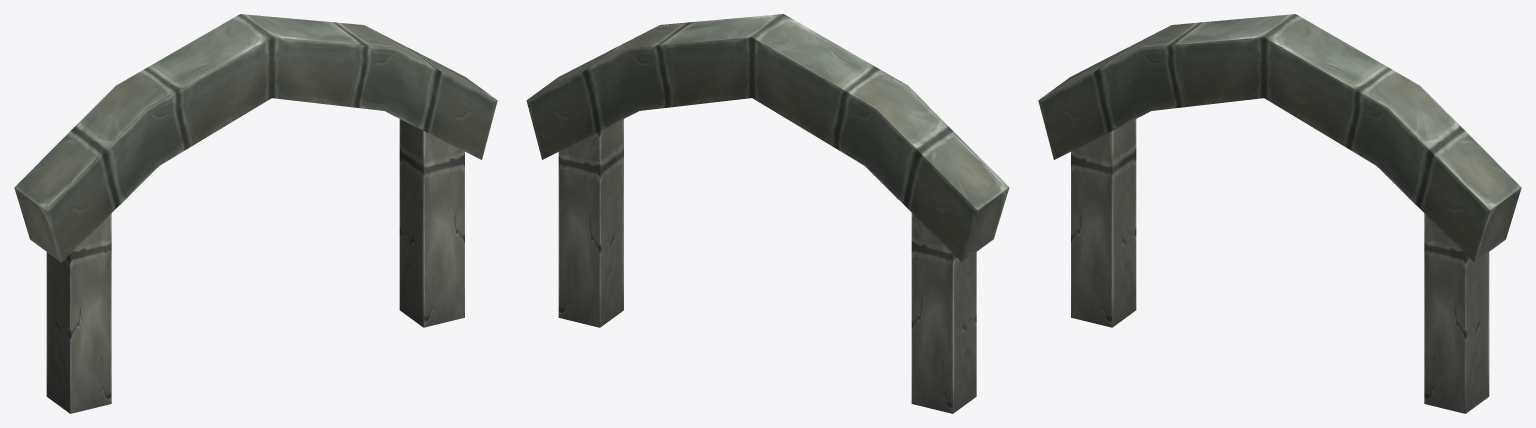
File: bridge_04_arc.fbx
3 views of the same model, side by side, from view 1: azimuth 30°, elevation 25°; view 2: azimuth 150°, elevation 25°; view 3: azimuth 330°, elevation 25° (orthographic).
Visible parts, largest first — view 1: bridge_04_arc; view 2: bridge_04_arc; view 3: bridge_04_arc.
Part boxes in pixels (x1=…): bridge_04_arc: x1=14, y1=14, x2=497, y2=413; bridge_04_arc: x1=526, y1=14, x2=1009, y2=413; bridge_04_arc: x1=1038, y1=14, x2=1521, y2=413.
Size of the model in its own units: 3.07 by 2.15 by 0.3738.
